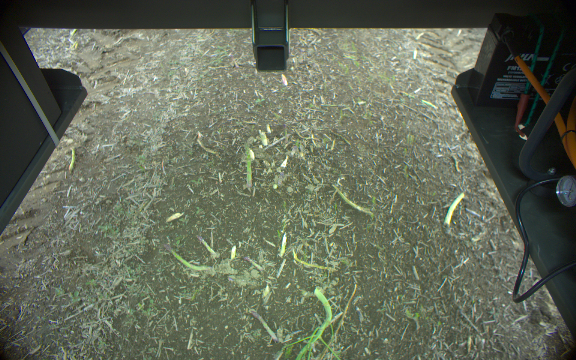aspa: (161, 243, 212, 274), (312, 285, 335, 345), (249, 309, 279, 342), (241, 145, 256, 192), (197, 232, 215, 258), (277, 230, 290, 259), (241, 255, 262, 270)
